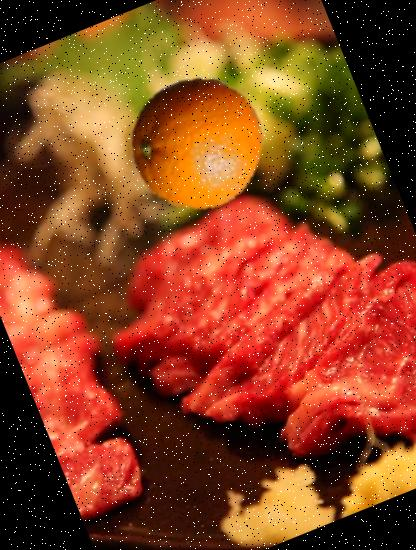Orange: (110, 56, 284, 229)
